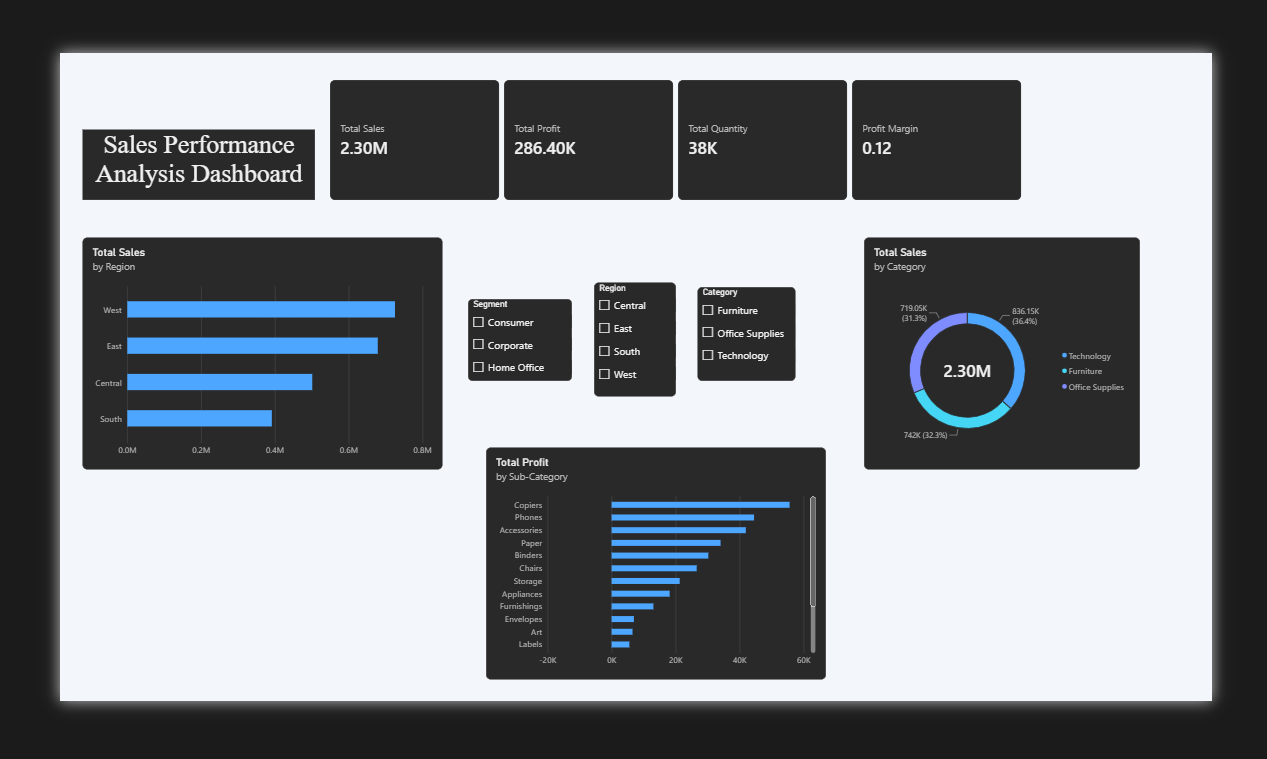

This screenshot's page, from the dashboard's own definition file:
{"tool":"powerbi","page":{"name":"Page 1","canvas":[1920,1080],"ordinal":0},"visuals":[{"type":"slicer","fields":{"Values":["Superstore.Region"]},"box":[890,383.3,136.7,190],"z":0},{"type":"donutChart","fields":{"Category":["Superstore.Category"],"Y":["Superstore.Total Sales"]},"box":[1340,306.7,460,386.7],"z":1000},{"type":"clusteredBarChart","fields":{"Category":["Superstore.Sub-Category"],"Y":["Superstore.Total Profit"]},"box":[710,656.7,566.7,386.7],"z":2000},{"type":"slicer","fields":{"Values":["Superstore.Category"]},"box":[1063.3,390,163.3,156.7],"z":3000},{"type":"slicer","fields":{"Values":["Superstore.Segment"]},"box":[680,410,173.3,136.7],"z":4000},{"type":"clusteredBarChart","fields":{"Category":["Superstore.Region"],"Y":["Superstore.Total Sales"]},"box":[36.7,306.7,600,386.7],"z":5000},{"type":"cardVisual","fields":{"Data":["Superstore.Total Sales","Superstore.Total Profit","Superstore.Total Quantity","Superstore.Profit Margin"]},"box":[450,45,1155,200],"z":6000},{"type":"textbox","box":[37.5,127.5,387.5,117.5],"z":7000}]}

Visuals, with their boxes on the page's 1920x1080 design canvas (x1, y1, x2, y2). These are canvas units, not pixel positions in the 1267x759 screenshot, which may show the page scaled, cropped or inside an application window:
slicer - Superstore.Region: bbox=[890, 383, 1027, 573]
donutChart - Superstore.Category x Superstore.Total Sales: bbox=[1340, 307, 1800, 693]
clusteredBarChart - Superstore.Sub-Category x Superstore.Total Profit: bbox=[710, 657, 1277, 1043]
slicer - Superstore.Category: bbox=[1063, 390, 1227, 547]
slicer - Superstore.Segment: bbox=[680, 410, 853, 547]
clusteredBarChart - Superstore.Region x Superstore.Total Sales: bbox=[37, 307, 637, 693]
cardVisual - Superstore.Total Sales x Superstore.Total Profit: bbox=[450, 45, 1605, 245]
textbox: bbox=[38, 128, 425, 245]
